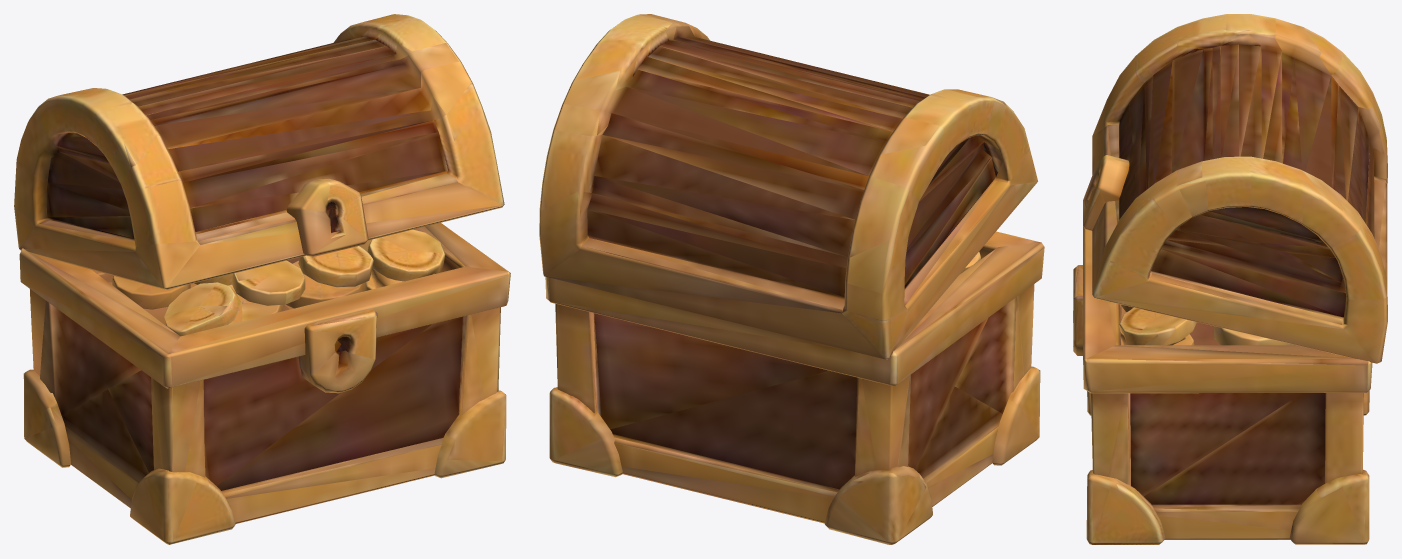
Rendered from item-chest.glb.
3 views of the same model, side by side, from view 1: azimuth 30°, elevation 25°; view 2: azimuth 150°, elevation 25°; view 3: azimuth 270°, elevation 25° (orthographic). The views are drawn at different scales.
Bounding box in the file's own units: 0.9028 × 0.9517 × 0.7295.
Materials: 1 (1 with a texture image).
